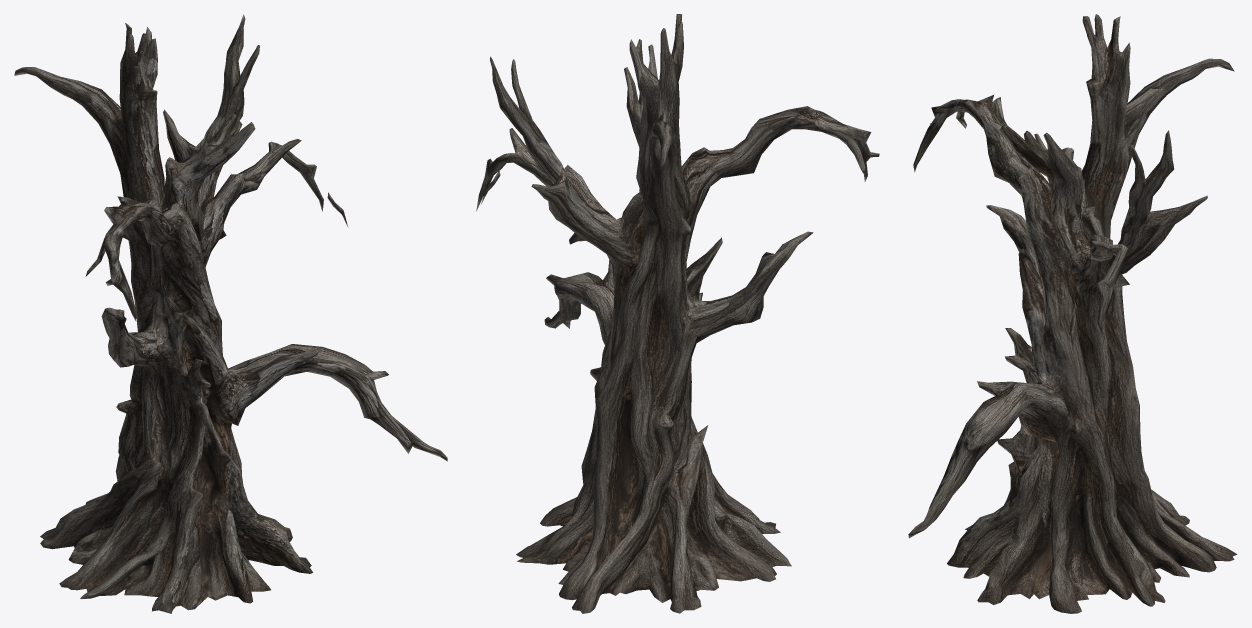
File: tree_twisted.glb
3 views of the same model, side by side, from view 1: azimuth 30°, elevation 25°; view 2: azimuth 150°, elevation 25°; view 3: azimuth 270°, elevation 25° (orthographic). The views are drawn at different scales.
Parts seen in each view (by area): view 1: tree_twisted; view 2: tree_twisted; view 3: tree_twisted.
Boxes of the visible parts, x1,y1,x2,y2 form: tree_twisted: (14,14,447,613); tree_twisted: (476,14,879,613); tree_twisted: (908,14,1237,613).
Size of the model in its own units: 66.25 by 100 by 56.37.
Materials: 1 (1 with a texture image).
